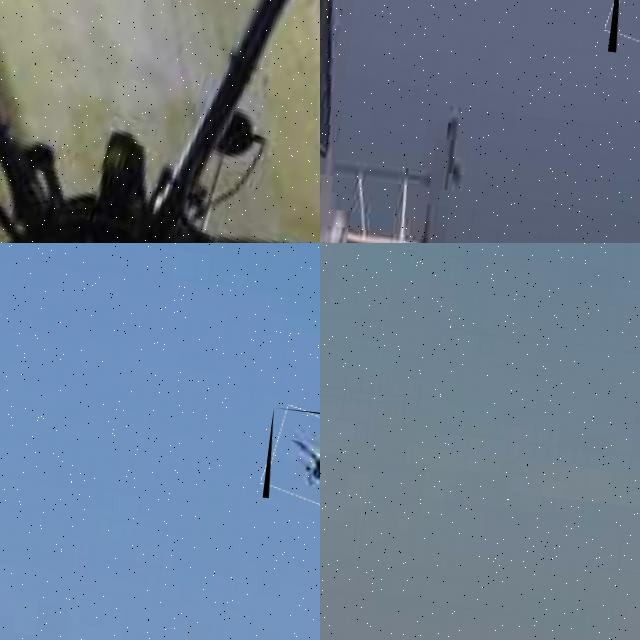drone: (0, 0, 320, 243), (262, 406, 320, 508)
